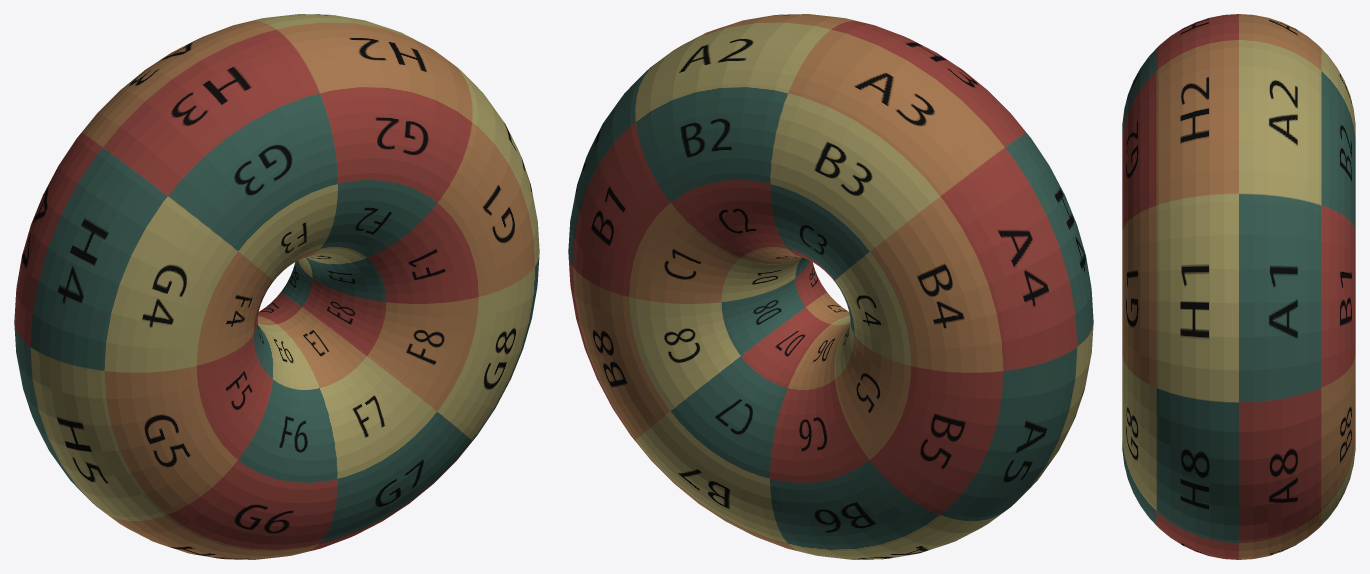
File: texture_torus_R4_r28.glb
The picture shows the model from 3 angles, left to right: view 1: azimuth 30°, elevation 25°; view 2: azimuth 150°, elevation 25°; view 3: azimuth 270°, elevation 25°; orthographic projection. The views are drawn at different scales.
Parts seen in each view (by area): view 1: world; view 2: world; view 3: world.
Boxes of the visible parts, bbox=[...] form: world: bbox=[14, 14, 539, 559]; world: bbox=[568, 14, 1093, 559]; world: bbox=[1122, 14, 1355, 559].
Size of the model in its own units: 22.13 by 22.09 by 9.45.
1 material, 1 textured.
